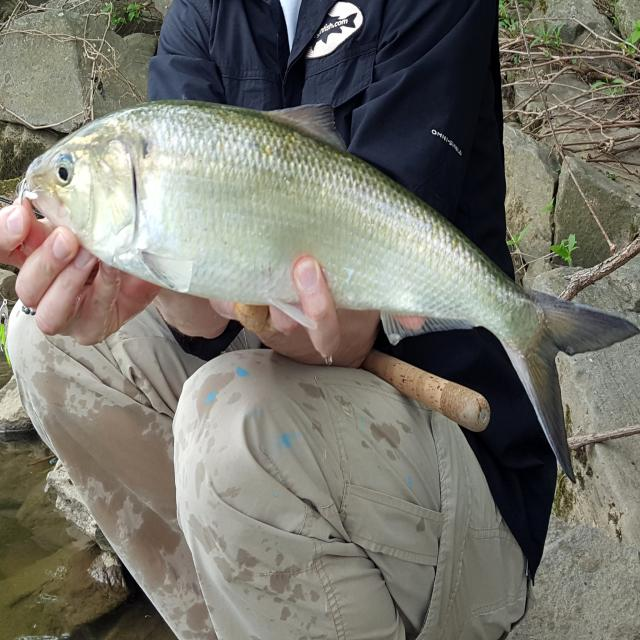Shad - American: (17, 101, 637, 479)
